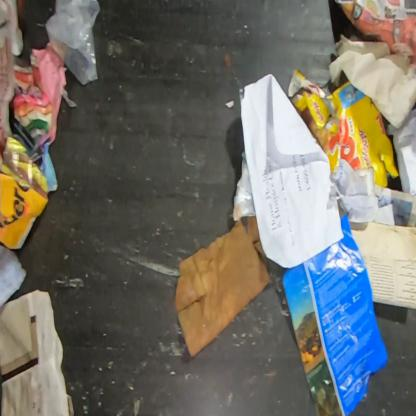cardboard: (174, 216, 272, 358), (287, 68, 399, 187), (0, 135, 50, 250)
soft_plastic: (44, 0, 101, 86)
